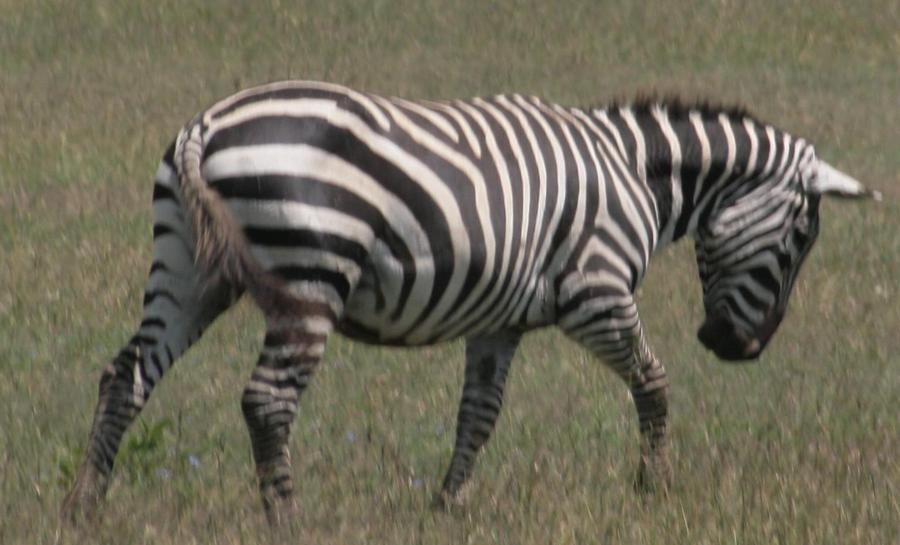zebra_plains: (219, 56, 658, 384)
